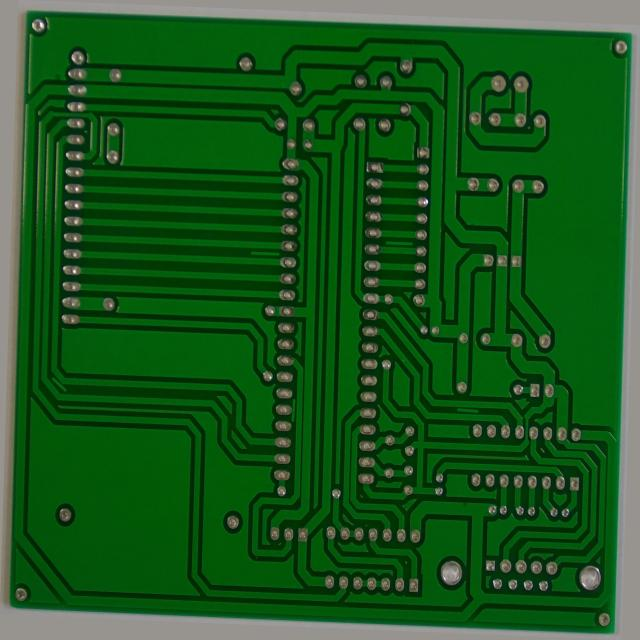spurious_copper: (245, 246, 278, 260), (42, 387, 63, 408), (383, 230, 415, 243), (461, 401, 488, 414), (290, 400, 301, 430)
